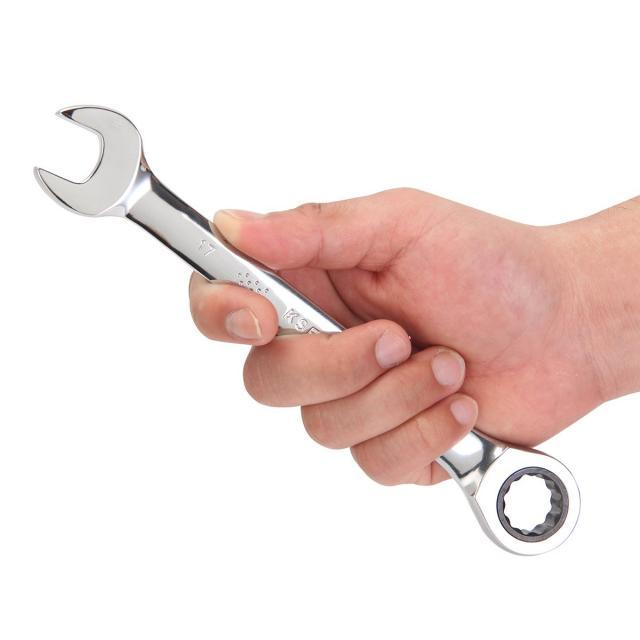wrench: (32, 100, 585, 562)
